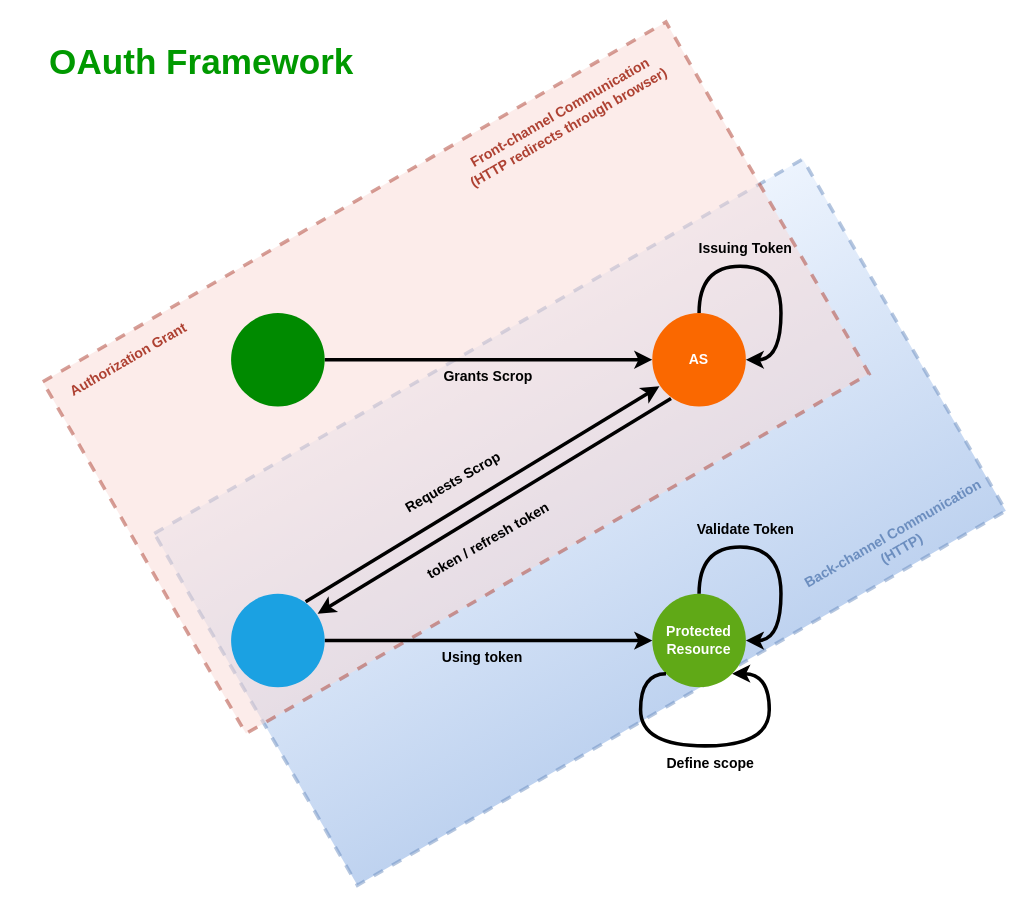
This 1028x908 diagram has some shape labels left out. The centre of each missing label's shape, as x and y in pixels:
"Client" goes at (x=277, y=640).
"Resource Owner" goes at (x=277, y=359).
